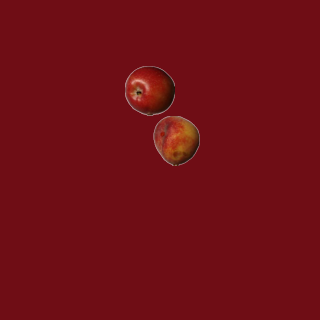Apple Braeburn: (124, 65, 174, 115)
Peach: (151, 115, 201, 165)
